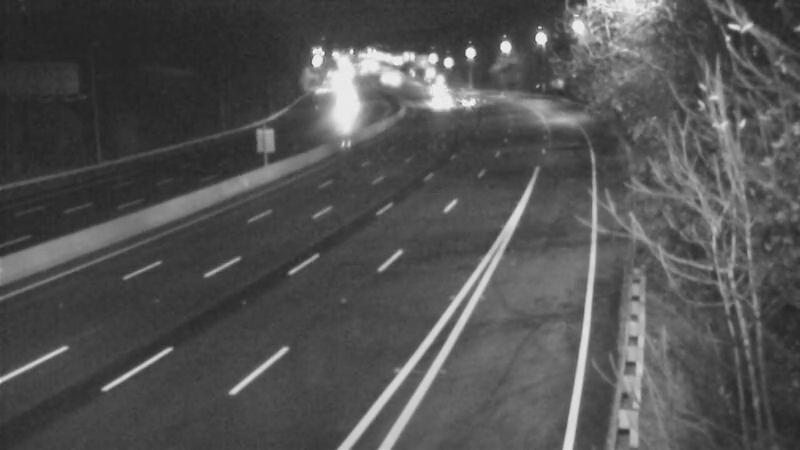vehicle: (409, 62, 459, 112), (446, 78, 496, 128), (413, 78, 463, 128), (321, 75, 371, 125)
